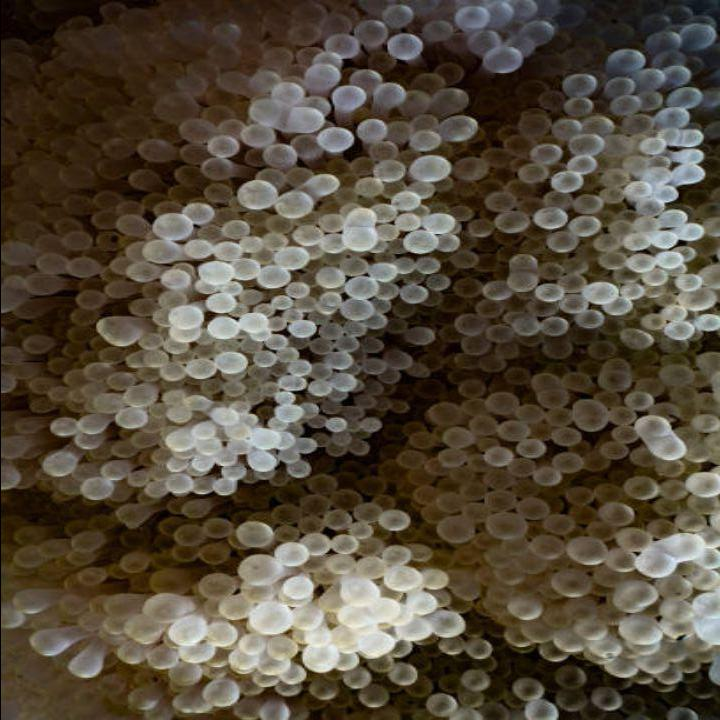Bleached disease: (0, 446, 472, 720)
